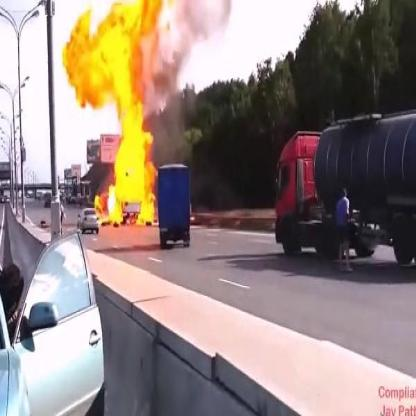fire: (97, 0, 159, 230), (60, 2, 103, 119)
